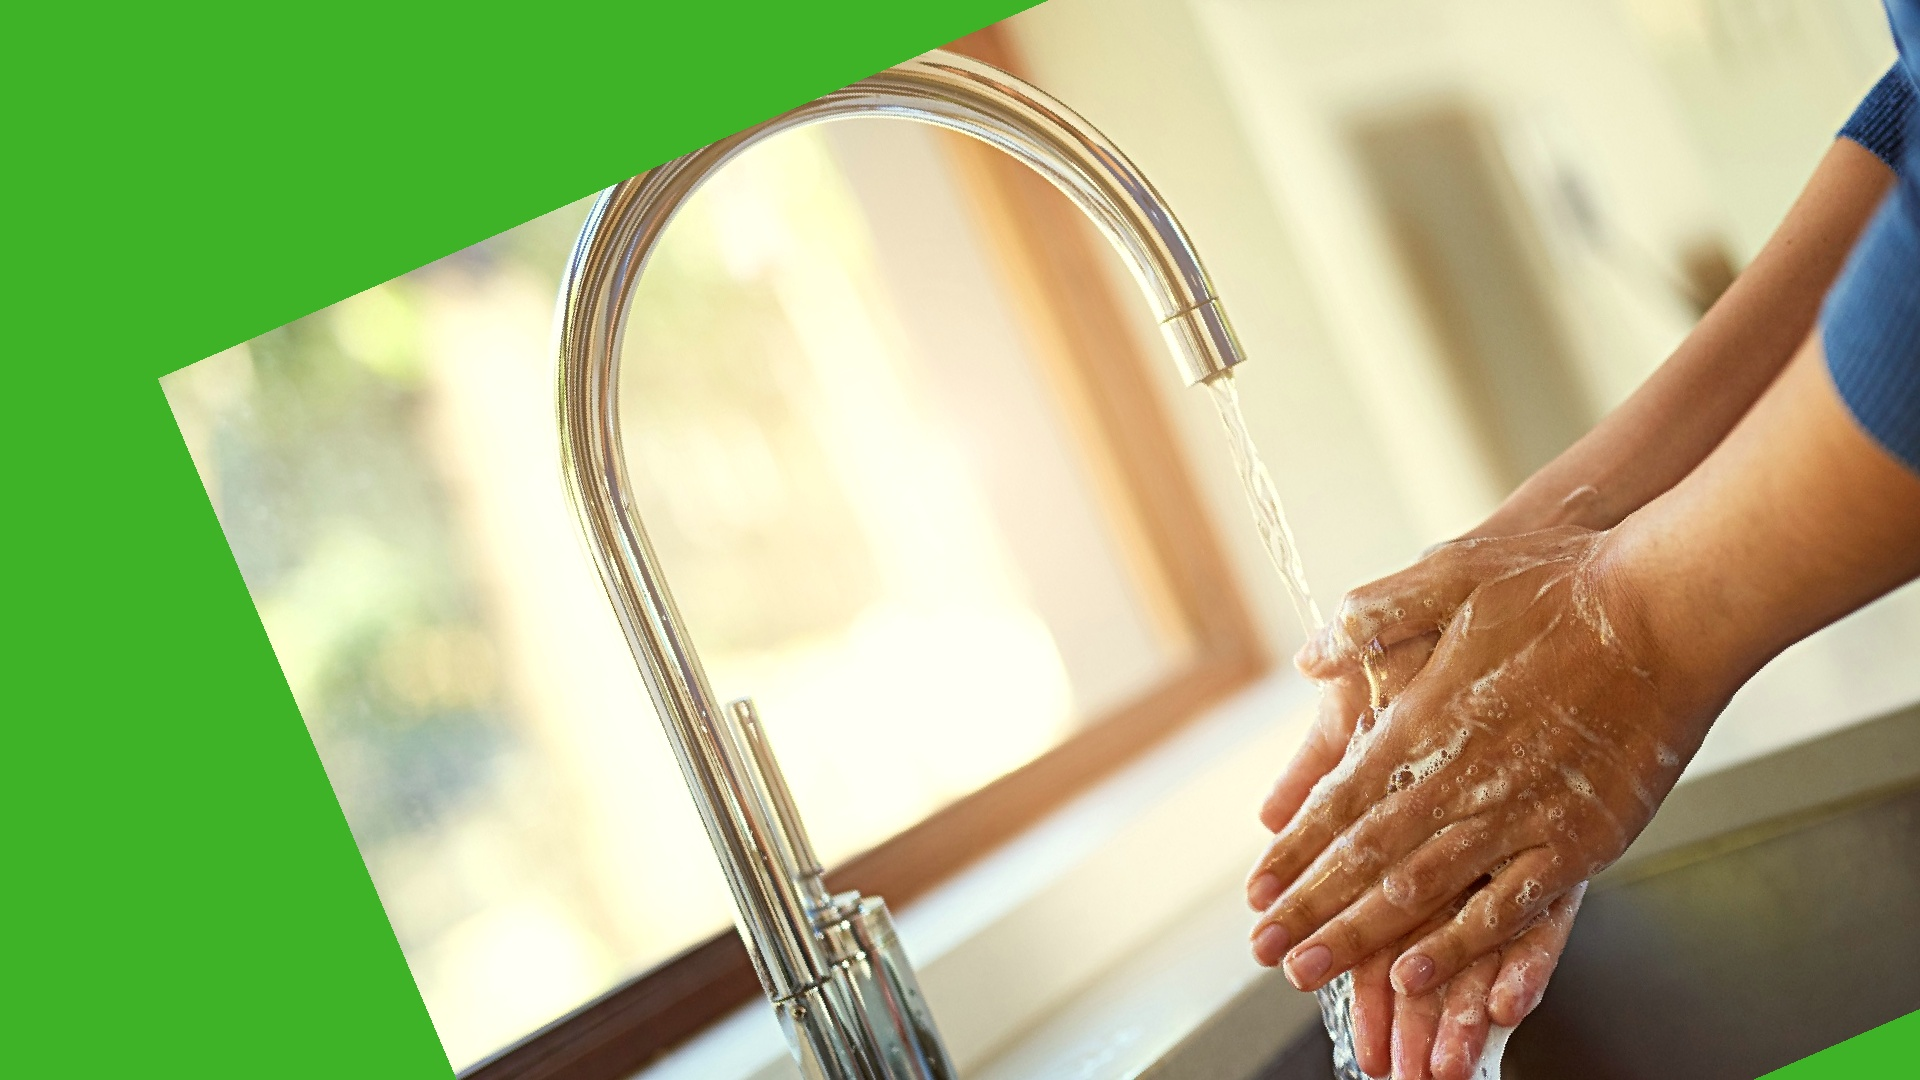washing hand: (603, 0, 1822, 1079)
